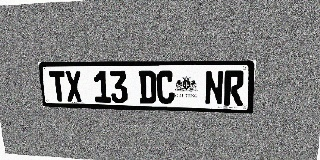1: (93, 71, 111, 103)
3: (109, 71, 128, 103)
C: (156, 71, 174, 104)
D: (138, 71, 156, 104)
N: (204, 71, 224, 105)
R: (224, 71, 245, 106)
T: (49, 71, 67, 102)
X: (65, 71, 83, 102)
